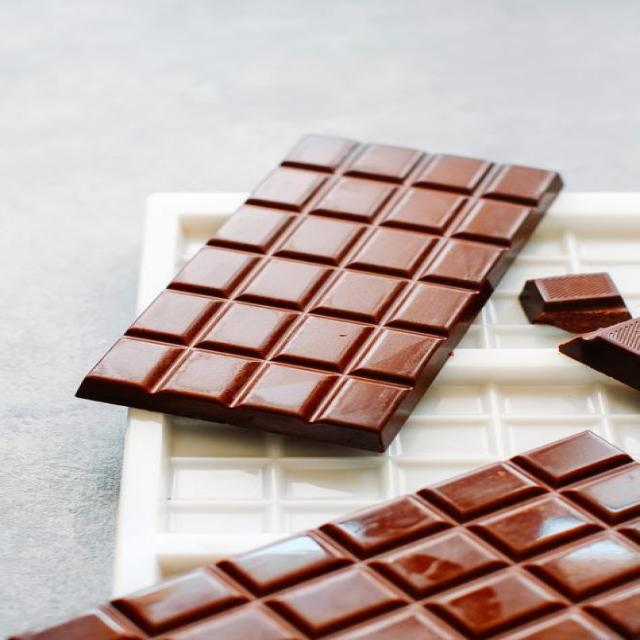Chocolate: (70, 129, 578, 452), (0, 424, 640, 640)
